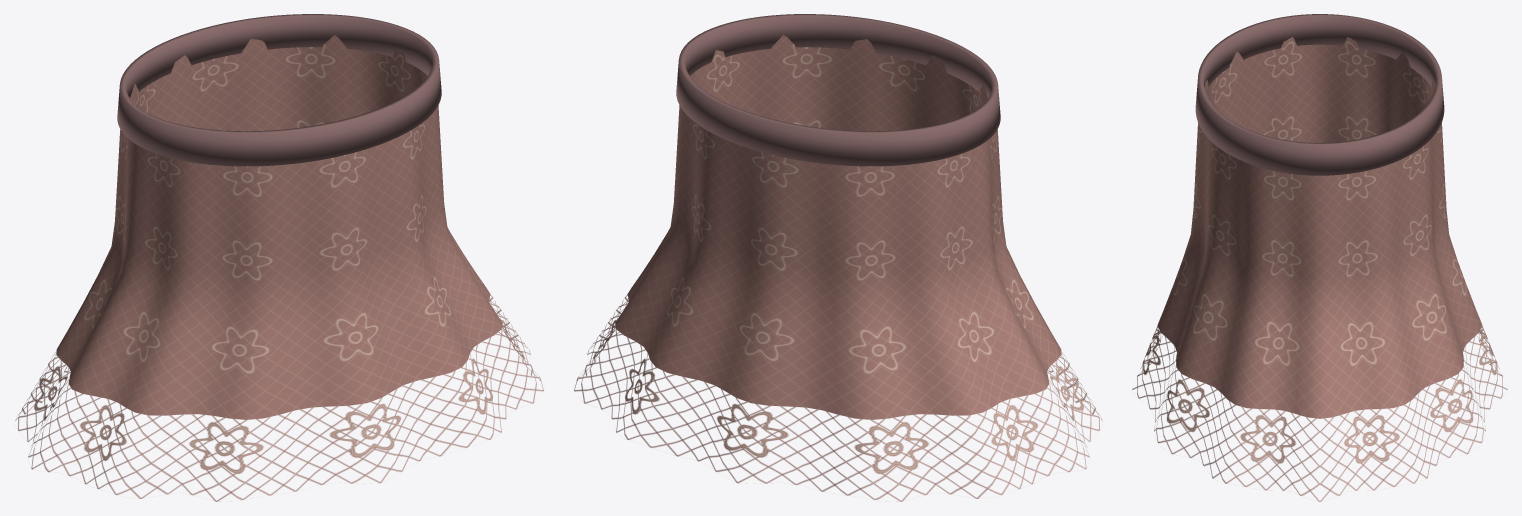
The model's file is skirt.glb.
The picture shows the model from 3 angles, left to right: view 1: azimuth 30°, elevation 25°; view 2: azimuth 150°, elevation 25°; view 3: azimuth 270°, elevation 25°; orthographic projection. The views are drawn at different scales.
Visible parts, largest first — view 1: ClothPanel, Waistband; view 2: ClothPanel, Waistband; view 3: ClothPanel, Waistband.
Boxes of the visible parts, x1=… form: ClothPanel: x1=15, y1=35, x2=543, y2=501; Waistband: x1=117, y1=14, x2=441, y2=166; ClothPanel: x1=574, y1=35, x2=1102, y2=501; Waistband: x1=676, y1=14, x2=1000, y2=166; ClothPanel: x1=1132, y1=37, x2=1507, y2=501; Waistband: x1=1195, y1=14, x2=1444, y2=175.
Bounding box in the file's own units: 0.46 × 0.297 × 0.326.
Materials: 2 (1 with a texture image).
